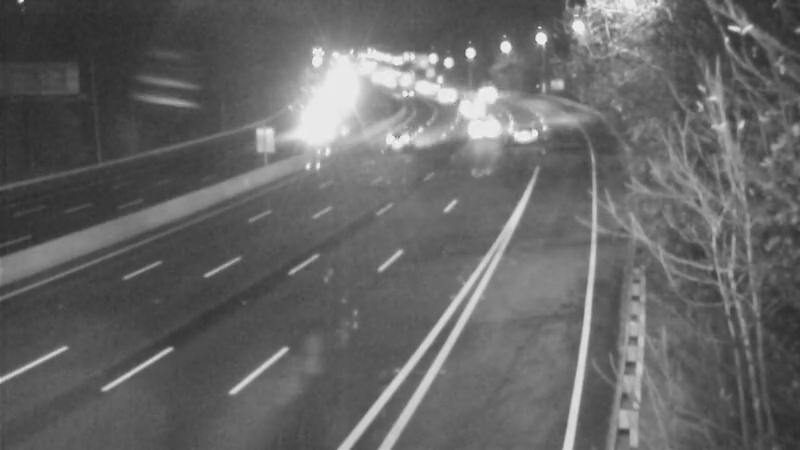vehicle: (381, 67, 431, 117), (462, 69, 512, 119), (447, 93, 497, 143), (455, 103, 505, 153), (497, 107, 547, 157), (370, 115, 420, 165), (290, 98, 340, 148)
